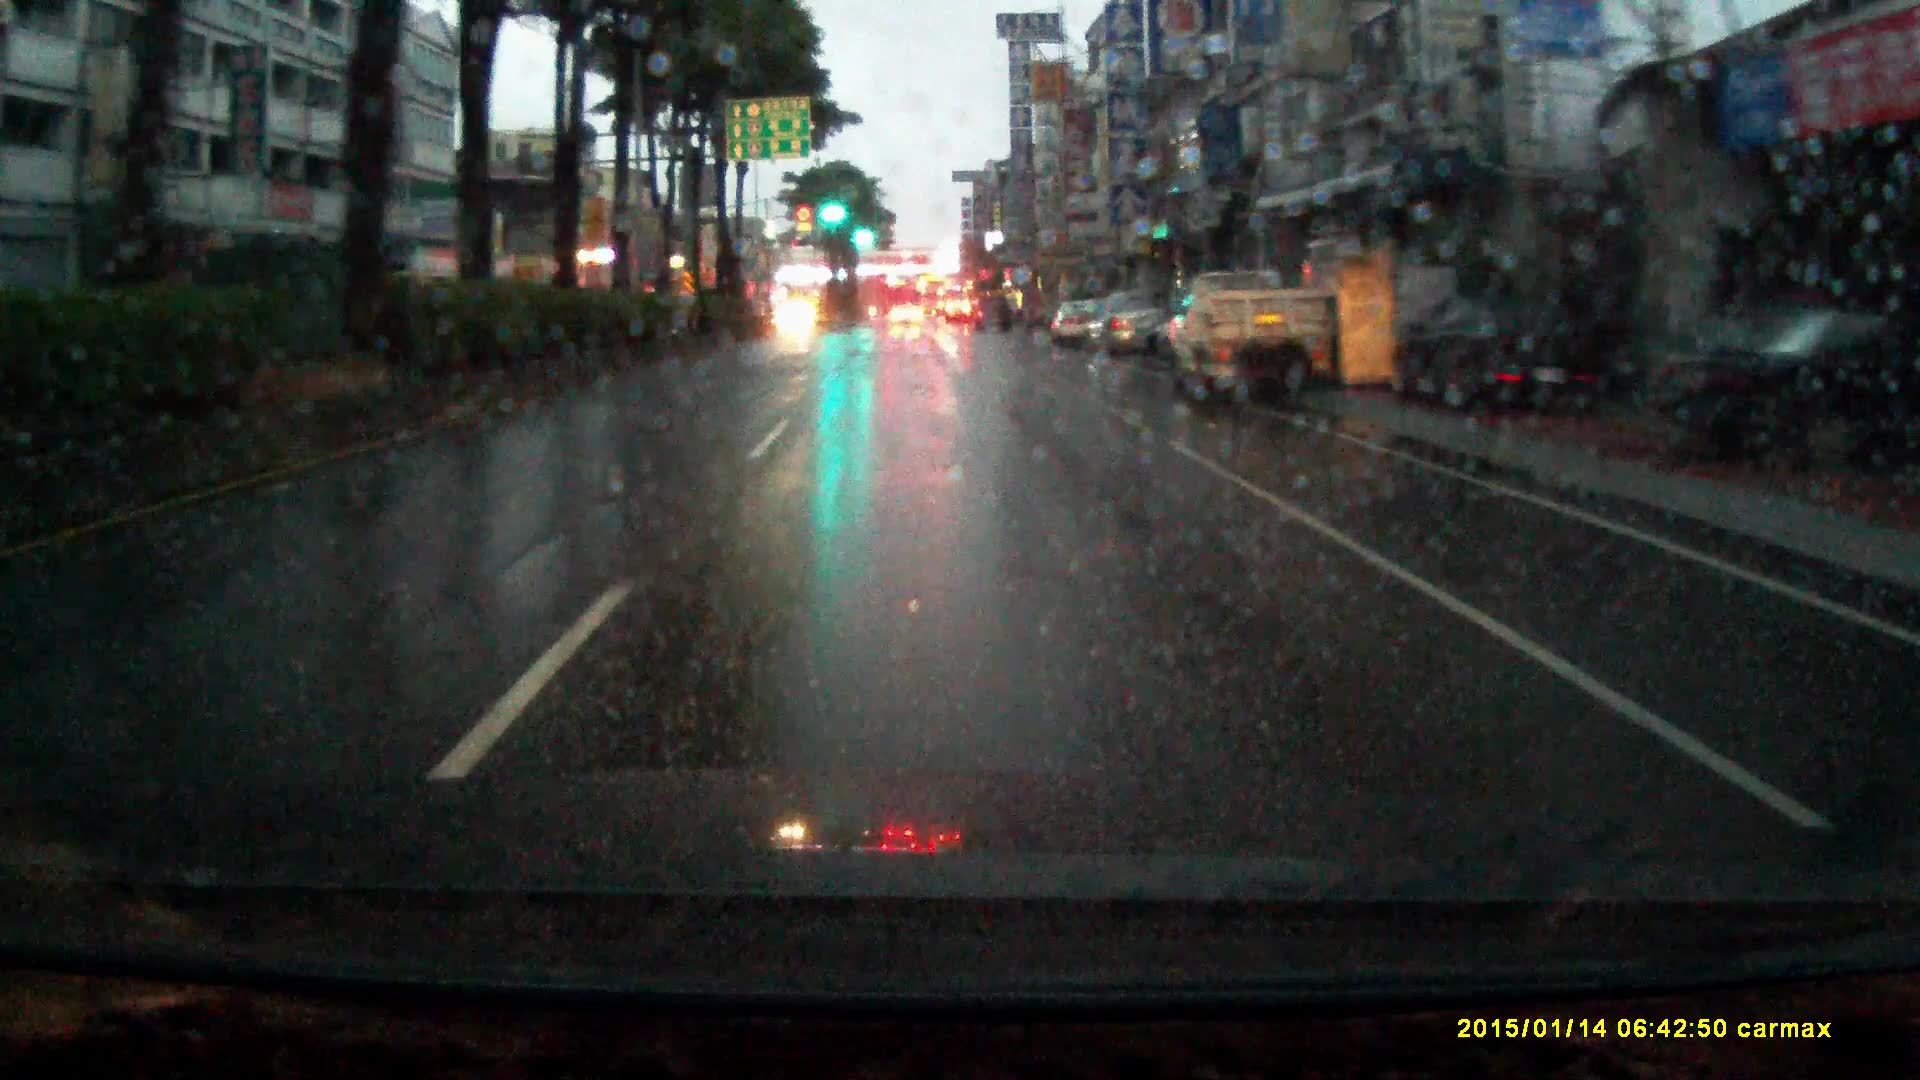vehicle: (1660, 305, 1920, 477), (1396, 297, 1606, 421), (1167, 266, 1341, 407), (1088, 287, 1164, 355), (1051, 294, 1100, 344), (775, 299, 819, 338), (975, 291, 1014, 332), (920, 278, 943, 315), (890, 302, 924, 323), (945, 295, 972, 322)
